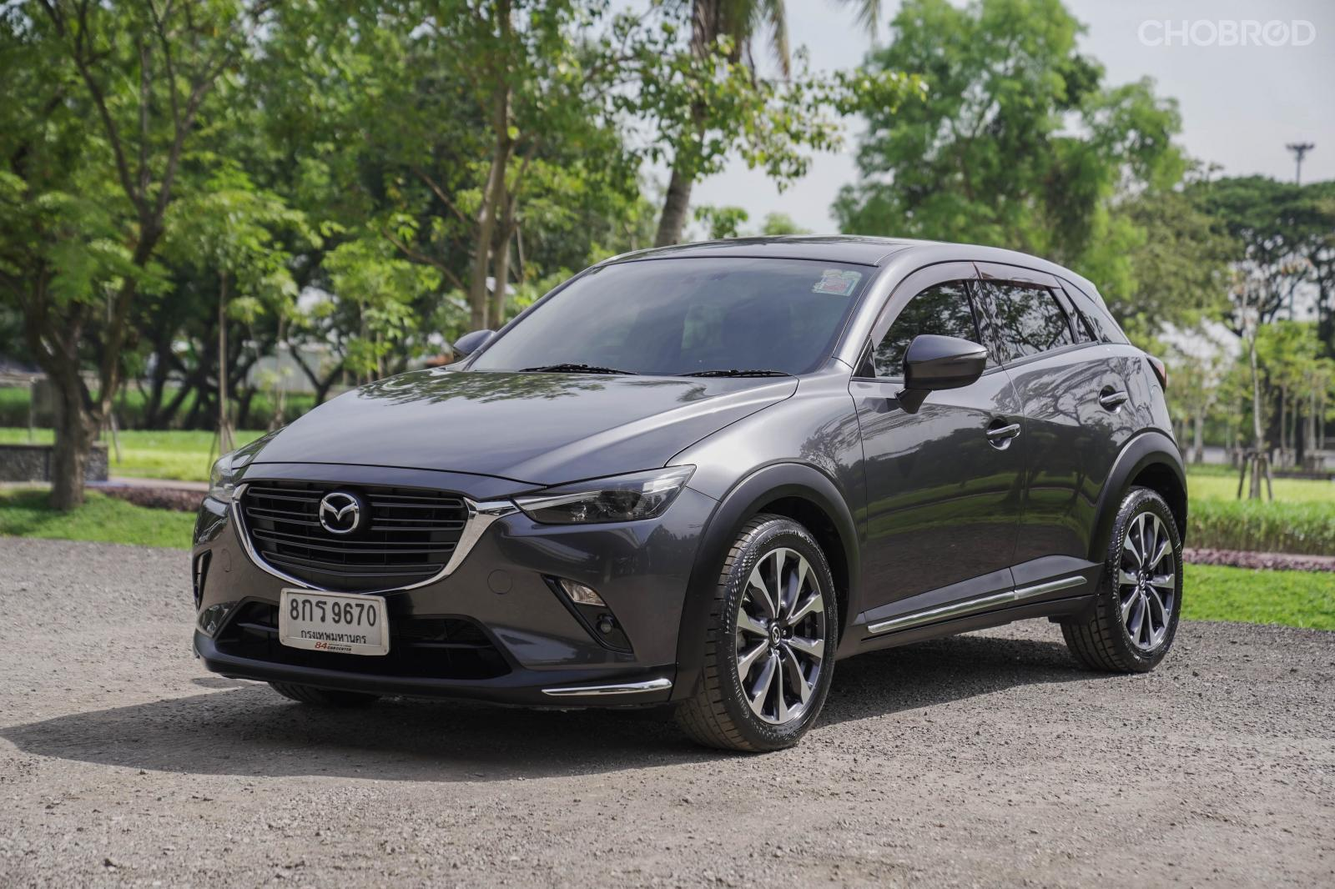license-plate: (270, 583, 402, 662)
